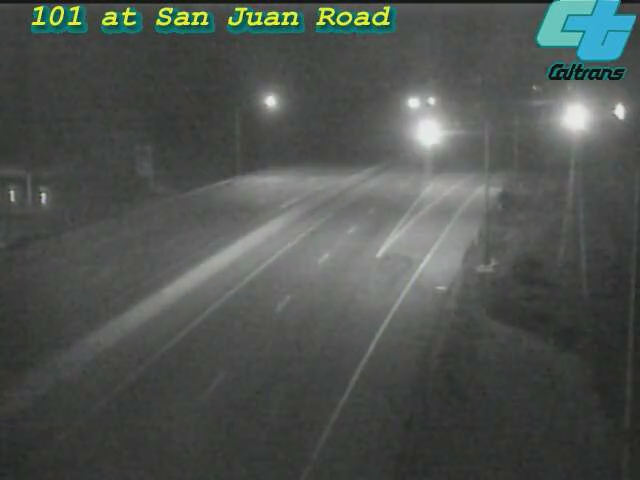vehicle: (218, 151, 298, 231), (402, 109, 452, 159), (547, 91, 597, 141), (595, 88, 640, 138)
